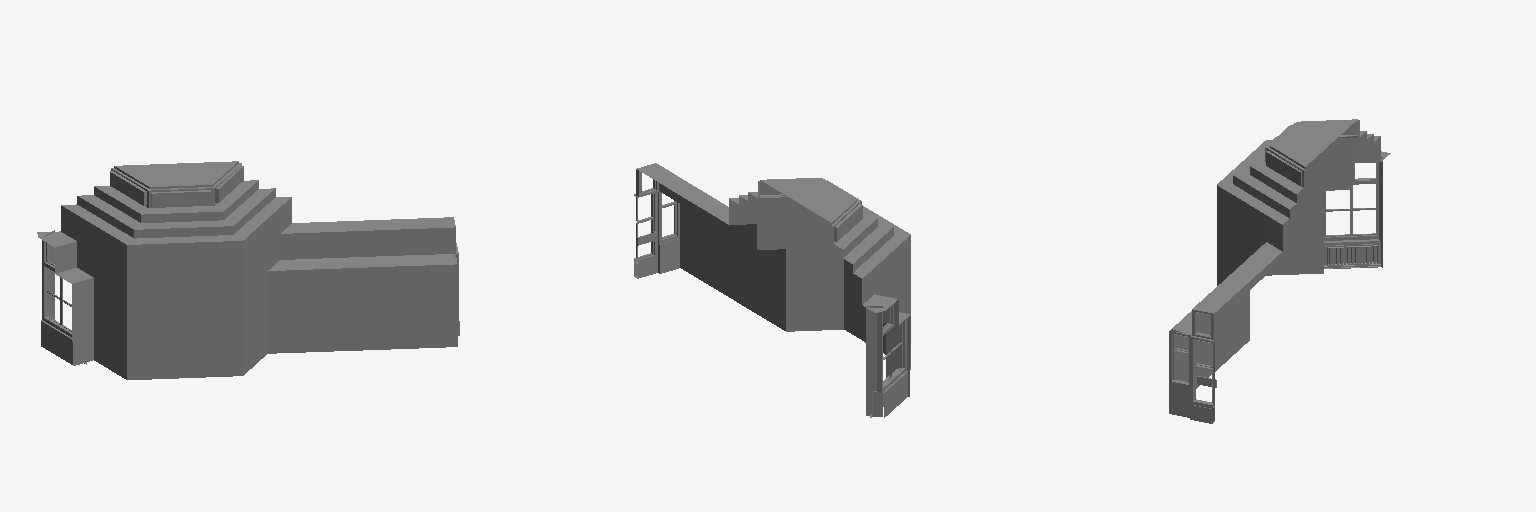
The model's file is murenlinks.obj.
3 renders of one model, left to right at view 1: azimuth 30°, elevation 25°; view 2: azimuth 150°, elevation 25°; view 3: azimuth 270°, elevation 25°, orthographic.
Parts seen in each view (by area): view 1: murenrechts003; view 2: murenrechts003; view 3: murenrechts003.
Part boxes in pixels (x1,y1,x2,y2): murenrechts003: (37, 161, 459, 379); murenrechts003: (634, 163, 910, 417); murenrechts003: (1169, 119, 1390, 423).
Size of the model in its own units: 9.99 by 4.93 by 5.72.